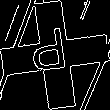P_S: (33, 27, 77, 83)
